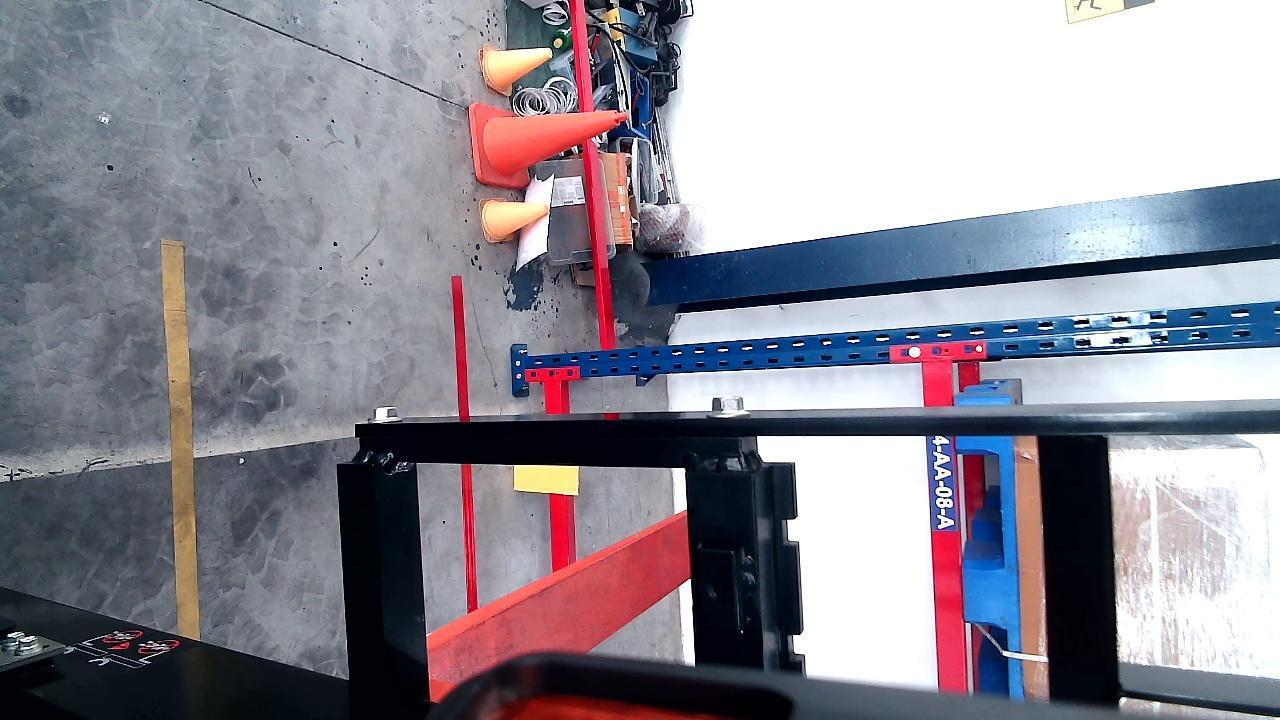h_rack: (924, 365, 969, 697), (540, 376, 576, 570)
orange_strip: (515, 464, 577, 493)
red_line: (445, 268, 478, 615)
small_pallet: (960, 429, 1022, 698)
yellow_line: (161, 238, 200, 640)
